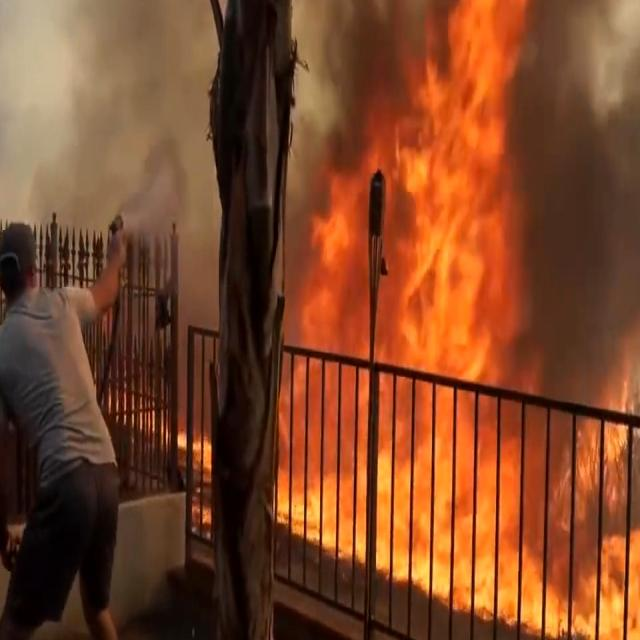fire: (322, 0, 542, 350)
smoke: (530, 0, 640, 382), (63, 0, 181, 196)
